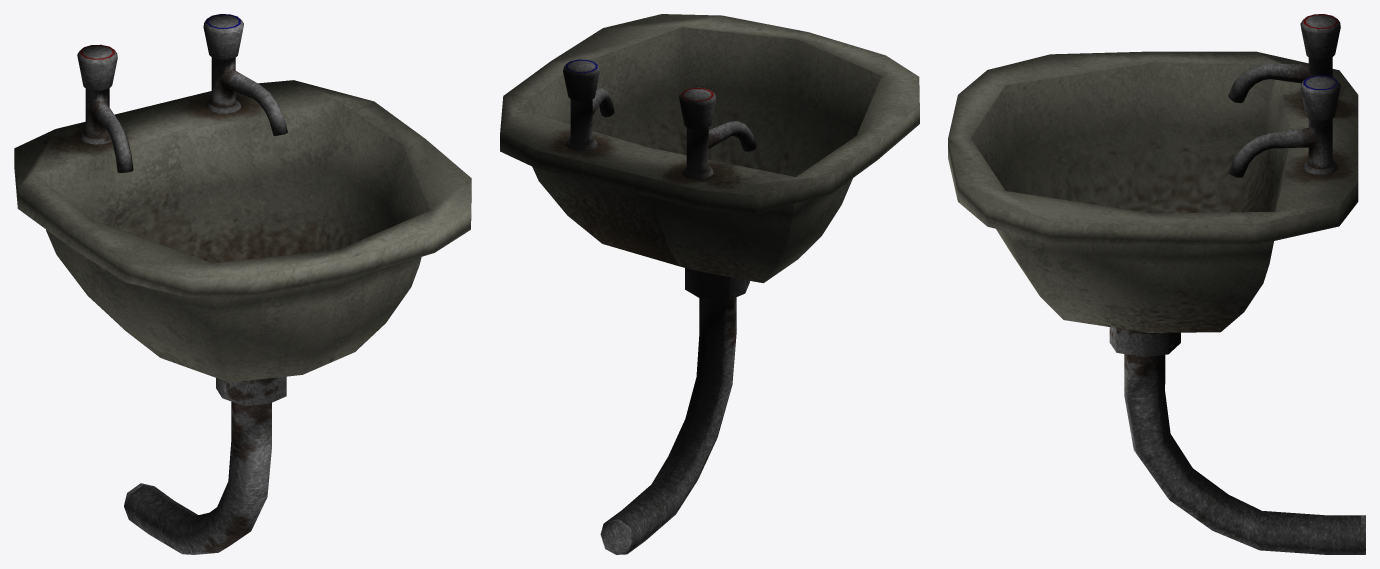
The model's file is Sink.fbx.
3 views of the same model, side by side, from view 1: azimuth 30°, elevation 25°; view 2: azimuth 150°, elevation 25°; view 3: azimuth 270°, elevation 25° (orthographic). The views are drawn at different scales.
Visible parts, largest first — view 1: Cube; view 2: Cube; view 3: Cube.
Boxes of the visible parts, x1,y1,x2,y2 form: Cube: (14,14,471,554); Cube: (500,14,919,554); Cube: (948,14,1365,554).
Size of the model in its own units: 0.6481 by 0.87 by 0.66.
